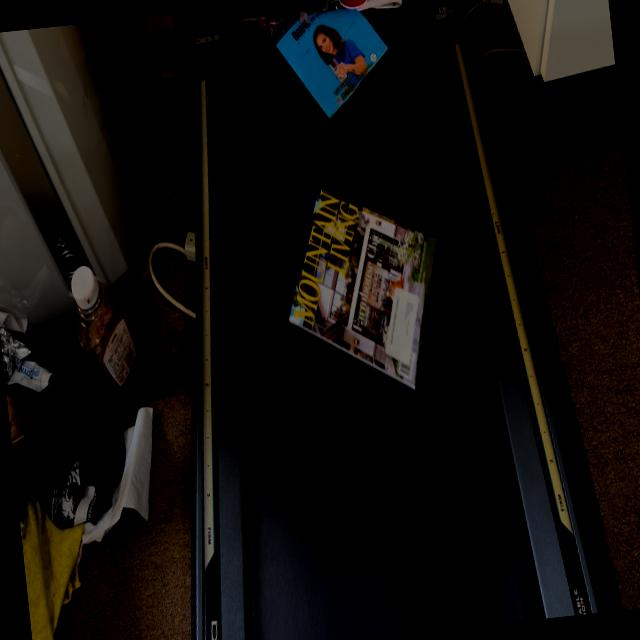Recycle: (272, 174, 456, 410), (252, 0, 396, 128)
